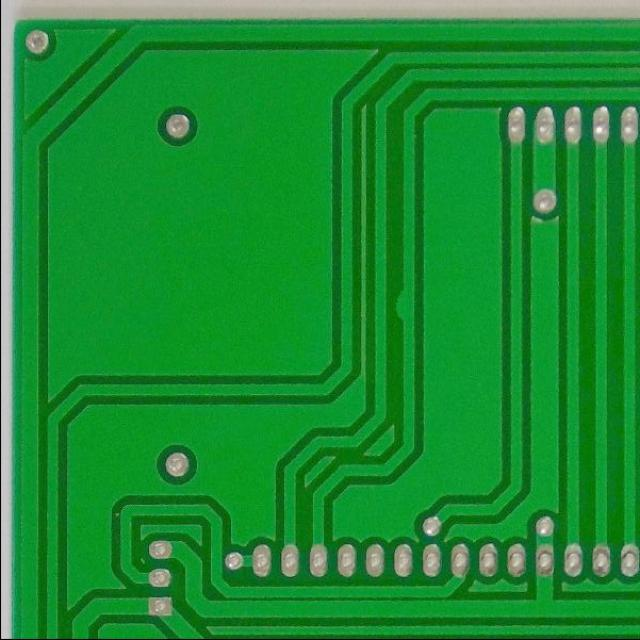spur: (388, 282, 418, 327)
